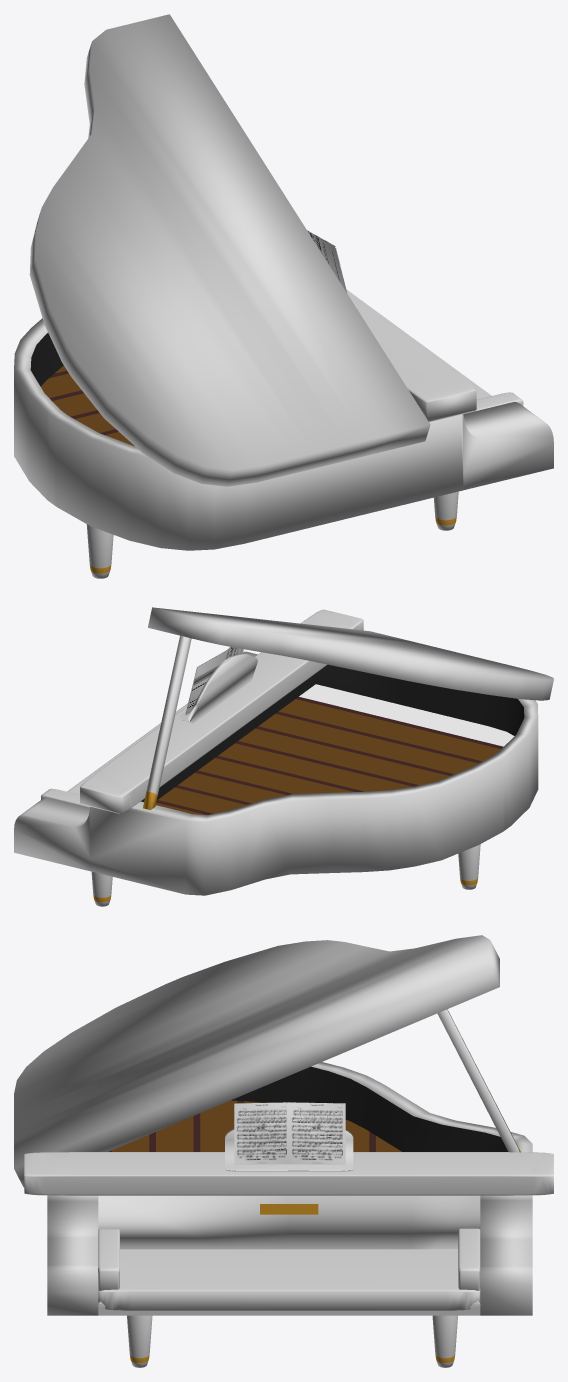
Rendered from noKeysPiano.glb.
3 renders of one model, top to bottom at view 1: azimuth 30°, elevation 25°; view 2: azimuth 150°, elevation 25°; view 3: azimuth 270°, elevation 25°, orthographic. The views are drawn at different scales.
Visible parts, largest first — view 1: CoverSmall_9, MainFrameSmall_8, Top_7, KeyboardSupport_0, Feet.001_6, Feet.002_5; view 2: MainFrameSmall_8, CoverSmall_9, Top_7, Plane.004_26, Plane.002_24, Plane.006_28, Plane.008_30, Plane.010_32, SheetHolder_1, Plane.012_34, Plane.014_36, Plane.016_38 (+9 smaller); view 3: CoverSmall_9, MainFrameSmall_8, KeyboardSupport_0, Top_7, Sheet_2, SheetHolder_1, Plane.008_30, Feet.002_5, Feet_4, Plane.006_28, GoldPlate_3.
Part boxes in pixels (x1,y1,x2,y2): CoverSmall_9: (29, 14, 430, 486); MainFrameSmall_8: (14, 318, 553, 550); Top_7: (347, 293, 476, 422); KeyboardSupport_0: (346, 289, 523, 413); Feet.001_6: (86, 524, 113, 578); Feet.002_5: (434, 491, 458, 530); MainFrameSmall_8: (14, 651, 538, 895); CoverSmall_9: (143, 607, 553, 809); Top_7: (80, 609, 363, 813); Plane.004_26: (279, 699, 500, 761); Plane.002_24: (299, 684, 514, 746); Plane.006_28: (258, 714, 477, 774); Plane.008_30: (238, 728, 449, 785); Plane.010_32: (218, 743, 412, 791); SheetHolder_1: (178, 654, 257, 723); Plane.012_34: (198, 758, 353, 793); Plane.014_36: (178, 773, 286, 803); Plane.016_38: (158, 787, 245, 813); CoverSmall_9: (14, 935, 520, 1187); MainFrameSmall_8: (47, 1062, 532, 1315); KeyboardSupport_0: (98, 1228, 480, 1310); Top_7: (24, 1152, 553, 1195); Sheet_2: (234, 1102, 345, 1165); SheetHolder_1: (225, 1129, 353, 1171); Plane.008_30: (200, 1100, 237, 1151); Feet.002_5: (127, 1315, 152, 1367); Feet_4: (432, 1315, 457, 1367); Plane.006_28: (156, 1116, 193, 1151); GoldPlate_3: (260, 1204, 318, 1214).
Size of the model in its own units: 6.95 by 6.31 by 8.61.
8 materials, 2 textured.
